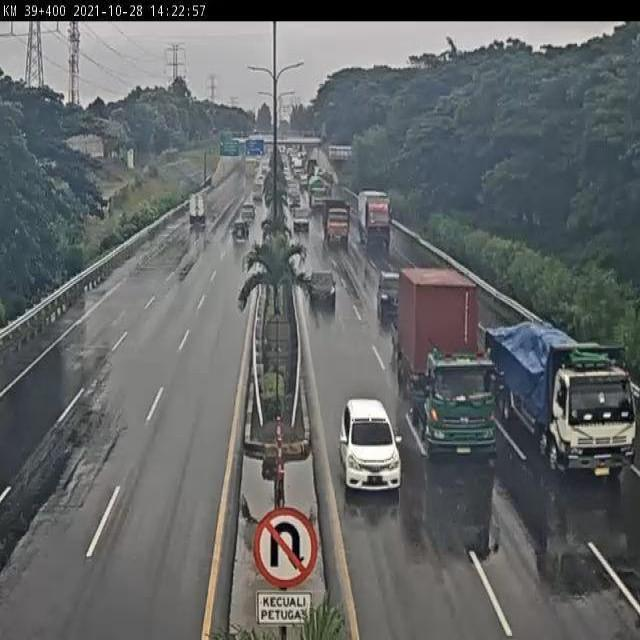truck: (483, 323, 637, 479), (390, 265, 497, 455), (357, 191, 392, 248), (324, 201, 353, 252)
